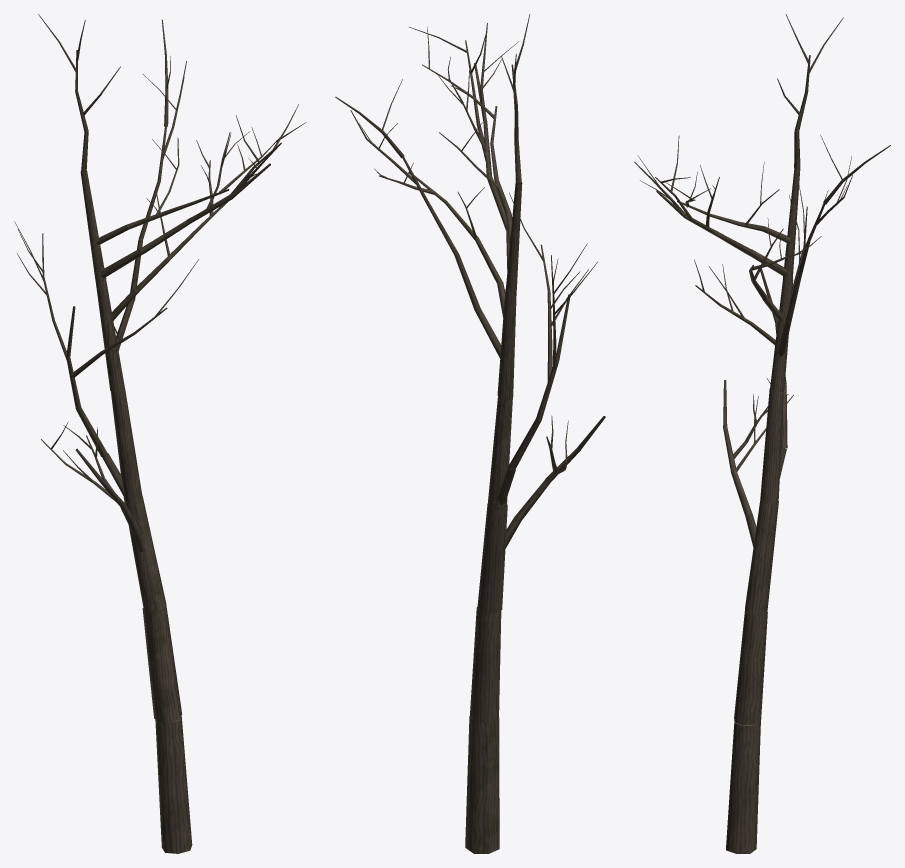
The model's file is S7U_Tree_Full_C.fbx.
3 views of the same model, side by side, from view 1: azimuth 30°, elevation 25°; view 2: azimuth 150°, elevation 25°; view 3: azimuth 270°, elevation 25° (orthographic). The views are drawn at different scales.
Visible parts, largest first — view 1: S7U_Tree_Full_C; view 2: S7U_Tree_Full_C; view 3: S7U_Tree_Full_C.
Part boxes in pixels (bbox=[...]): S7U_Tree_Full_C: bbox=[14, 14, 306, 853]; S7U_Tree_Full_C: bbox=[335, 14, 605, 853]; S7U_Tree_Full_C: bbox=[634, 14, 890, 853].
Bounding box in the file's own units: 3.69 × 12.61 × 3.66.
